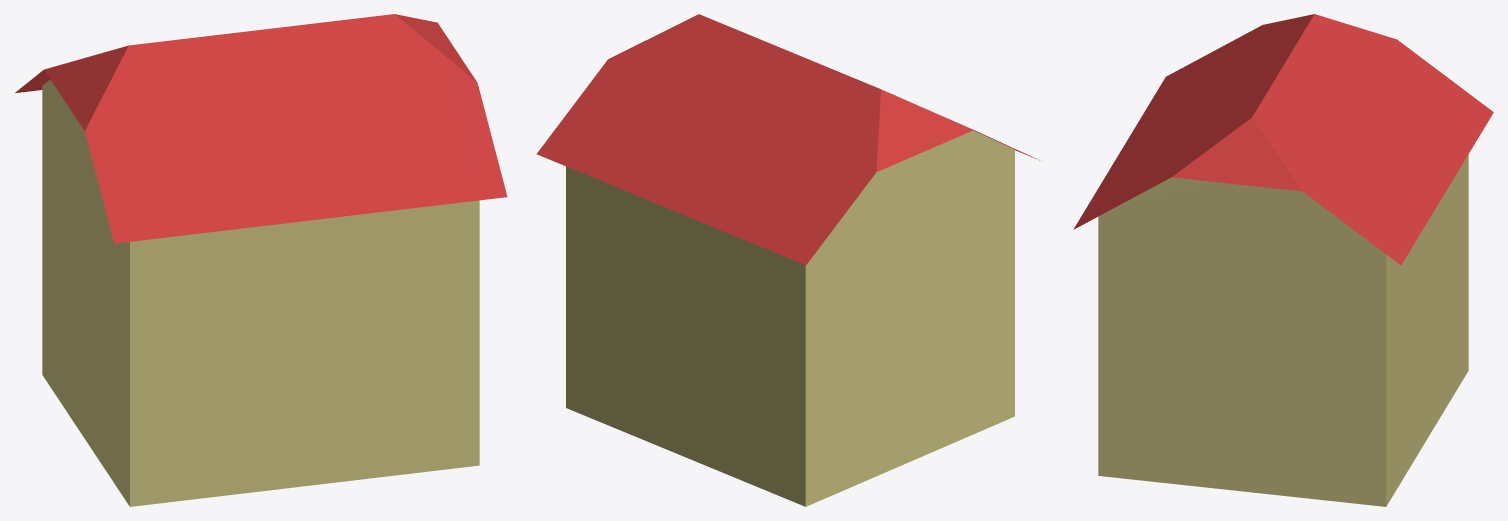
The picture shows the model from 3 angles, left to right: view 1: azimuth 30°, elevation 25°; view 2: azimuth 150°, elevation 25°; view 3: azimuth 270°, elevation 25°; orthographic projection. The views are drawn at different scales.
Bounding box in the file's own units: 16.09 × 15.17 × 14.23.
